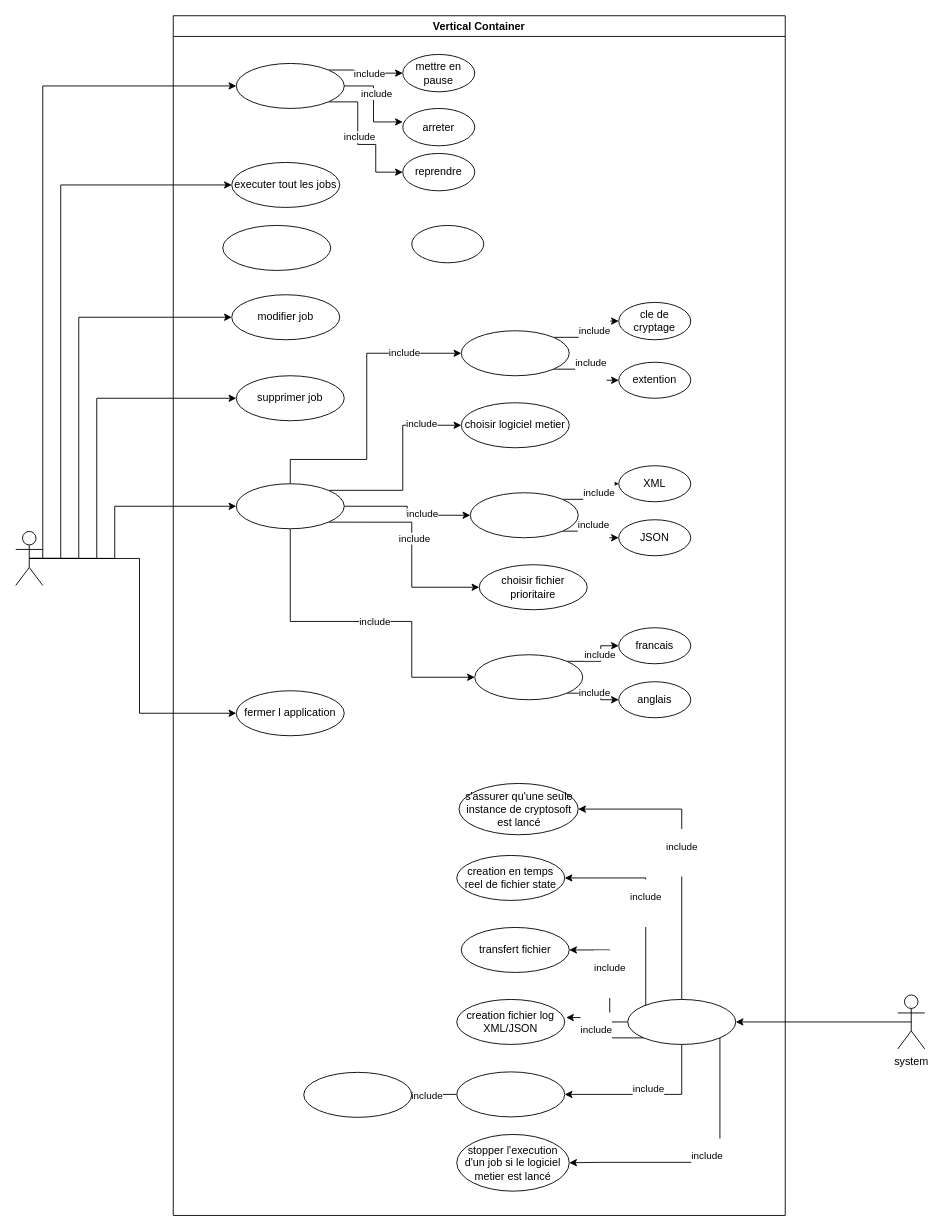
The diagram is 944 pixels wide and 1231 high, and some of its shapes have lost their labels. Each missing label, with the centre of its shape:
"Actor" belongs at pixel 29 558.
"add job" belongs at pixel 276 247.
"changer de langue" belongs at pixel 528 677.
"choisir type de fichier logs" belongs at pixel 523 515.
"crypter un fichier" belongs at pixel 510 1094.
"encryptage" belongs at pixel 514 353.
"execute jobs" belongs at pixel 681 1021.
"executer un job" belongs at pixel 289 85.
"job information" belongs at pixel 447 244.
"parametres" belongs at pixel 289 506.
"utiliser cryptosoft" belongs at pixel 357 1094.
